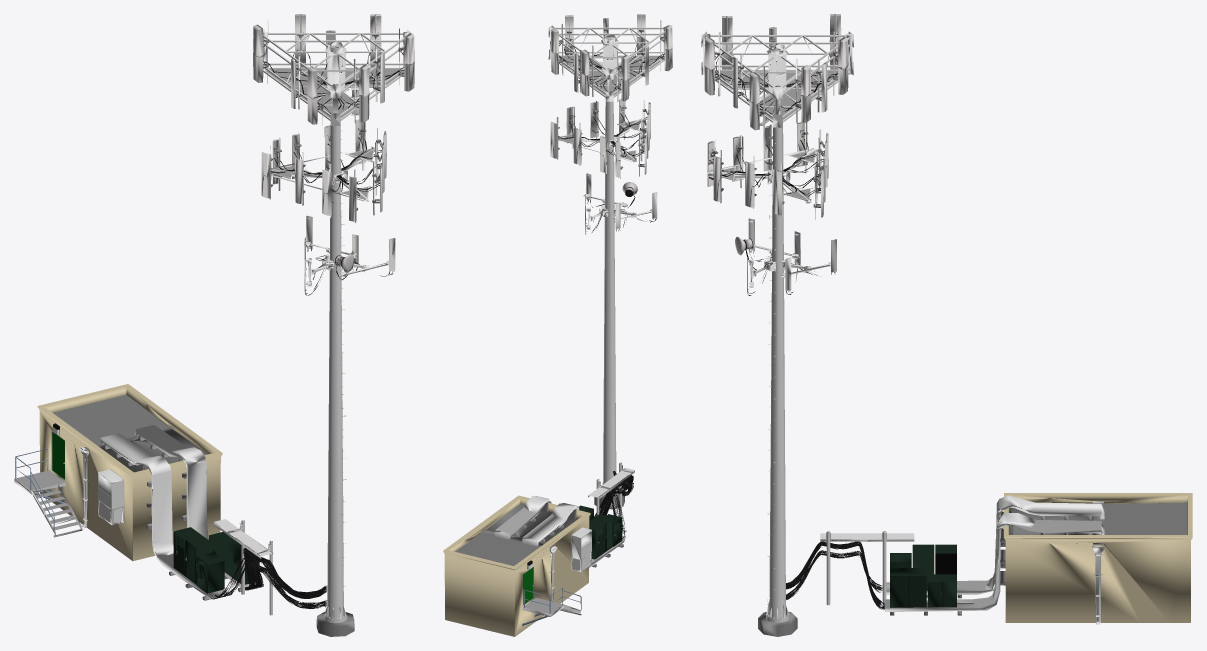
File: OBJ-cell_tower.glb
The picture shows the model from 3 angles, left to right: view 1: azimuth 30°, elevation 25°; view 2: azimuth 150°, elevation 25°; view 3: azimuth 270°, elevation 25°; orthographic projection. The views are drawn at different scales.
Bounding box in the file's own units: 6.93 × 20 × 14.95.
